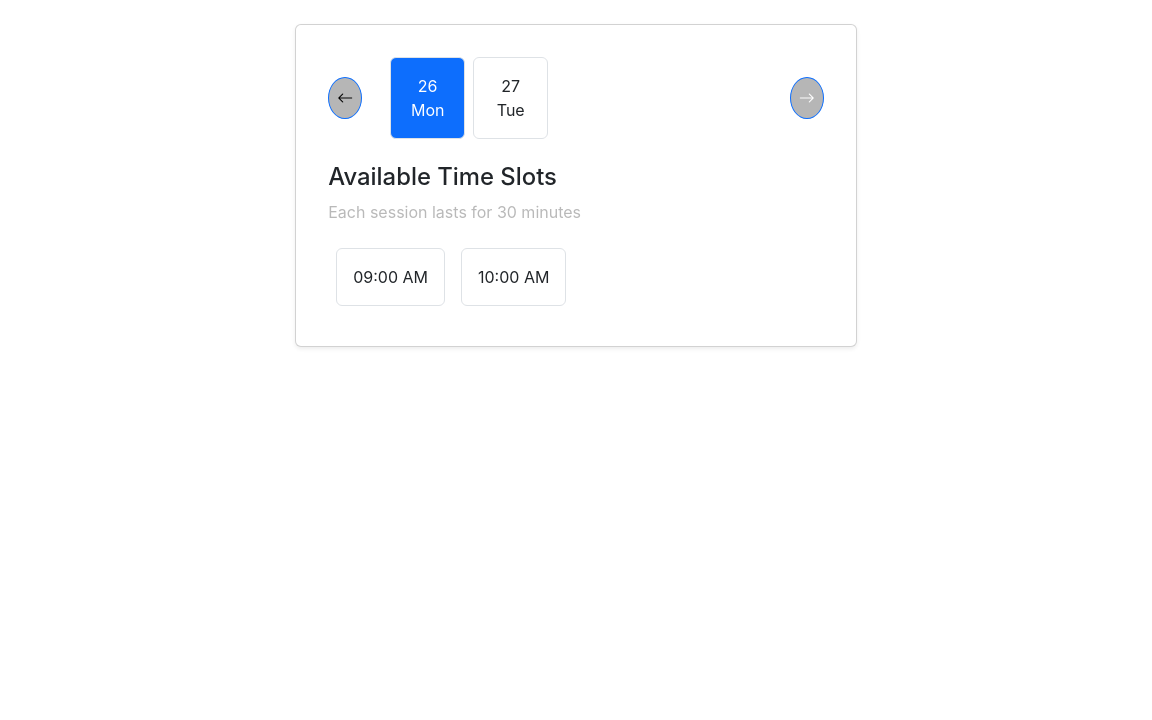
Test: AppointmentScheduler Component › AppointmentScheduler Component selects a time slot and shows a toast
# Click on the 09:00 AM time slot
What coordinates should you click on to do the following:
click the element with test id "time-slot-09:00 AM"
I would click on:
 (391, 277)
Its box is [336,248,445,306].
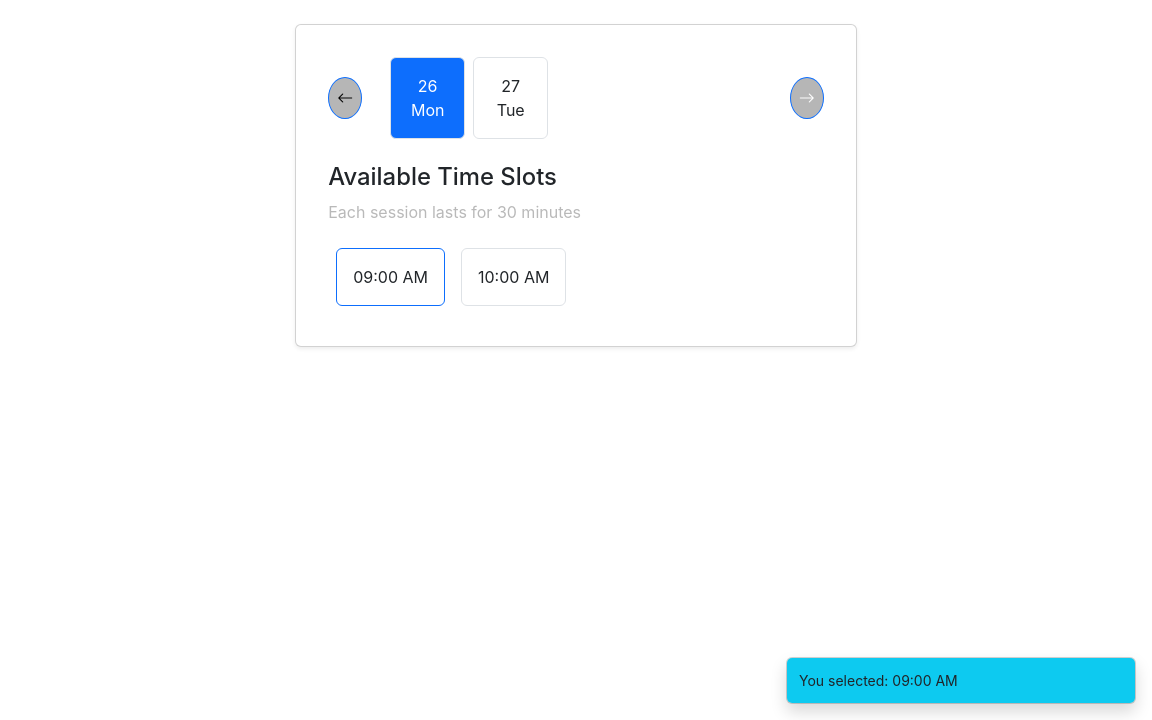
Expected: the text with test id "toast-message" reads "You selected: 09:00 AM", [799,672,958,689]
